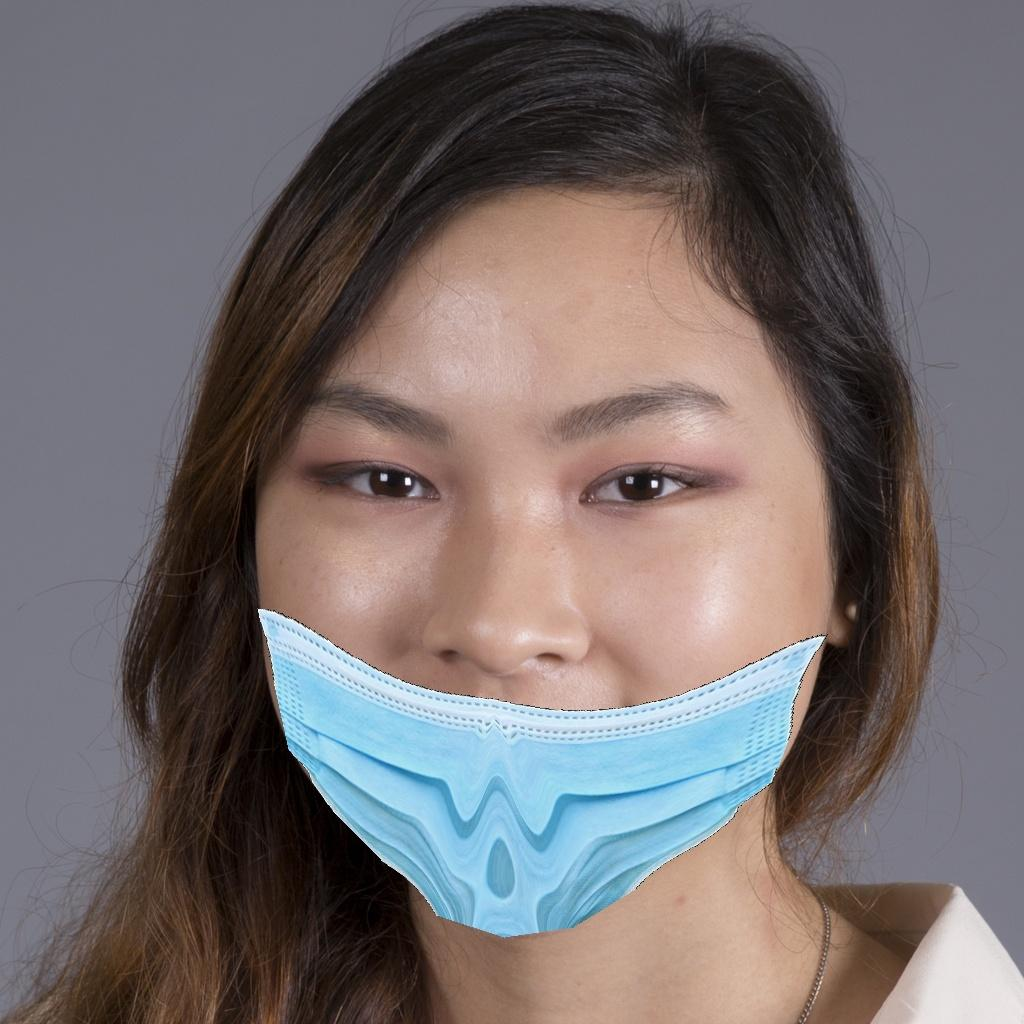Máscara Incorreta: (249, 261, 828, 916)
